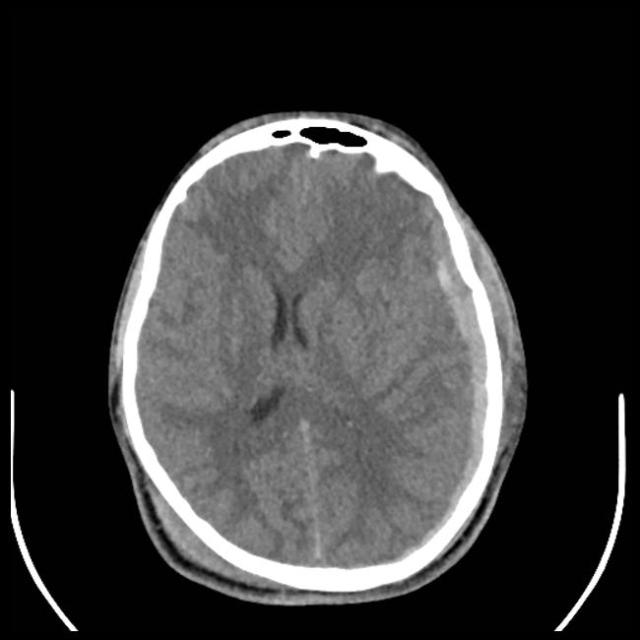lesion: (104, 108, 530, 604)
